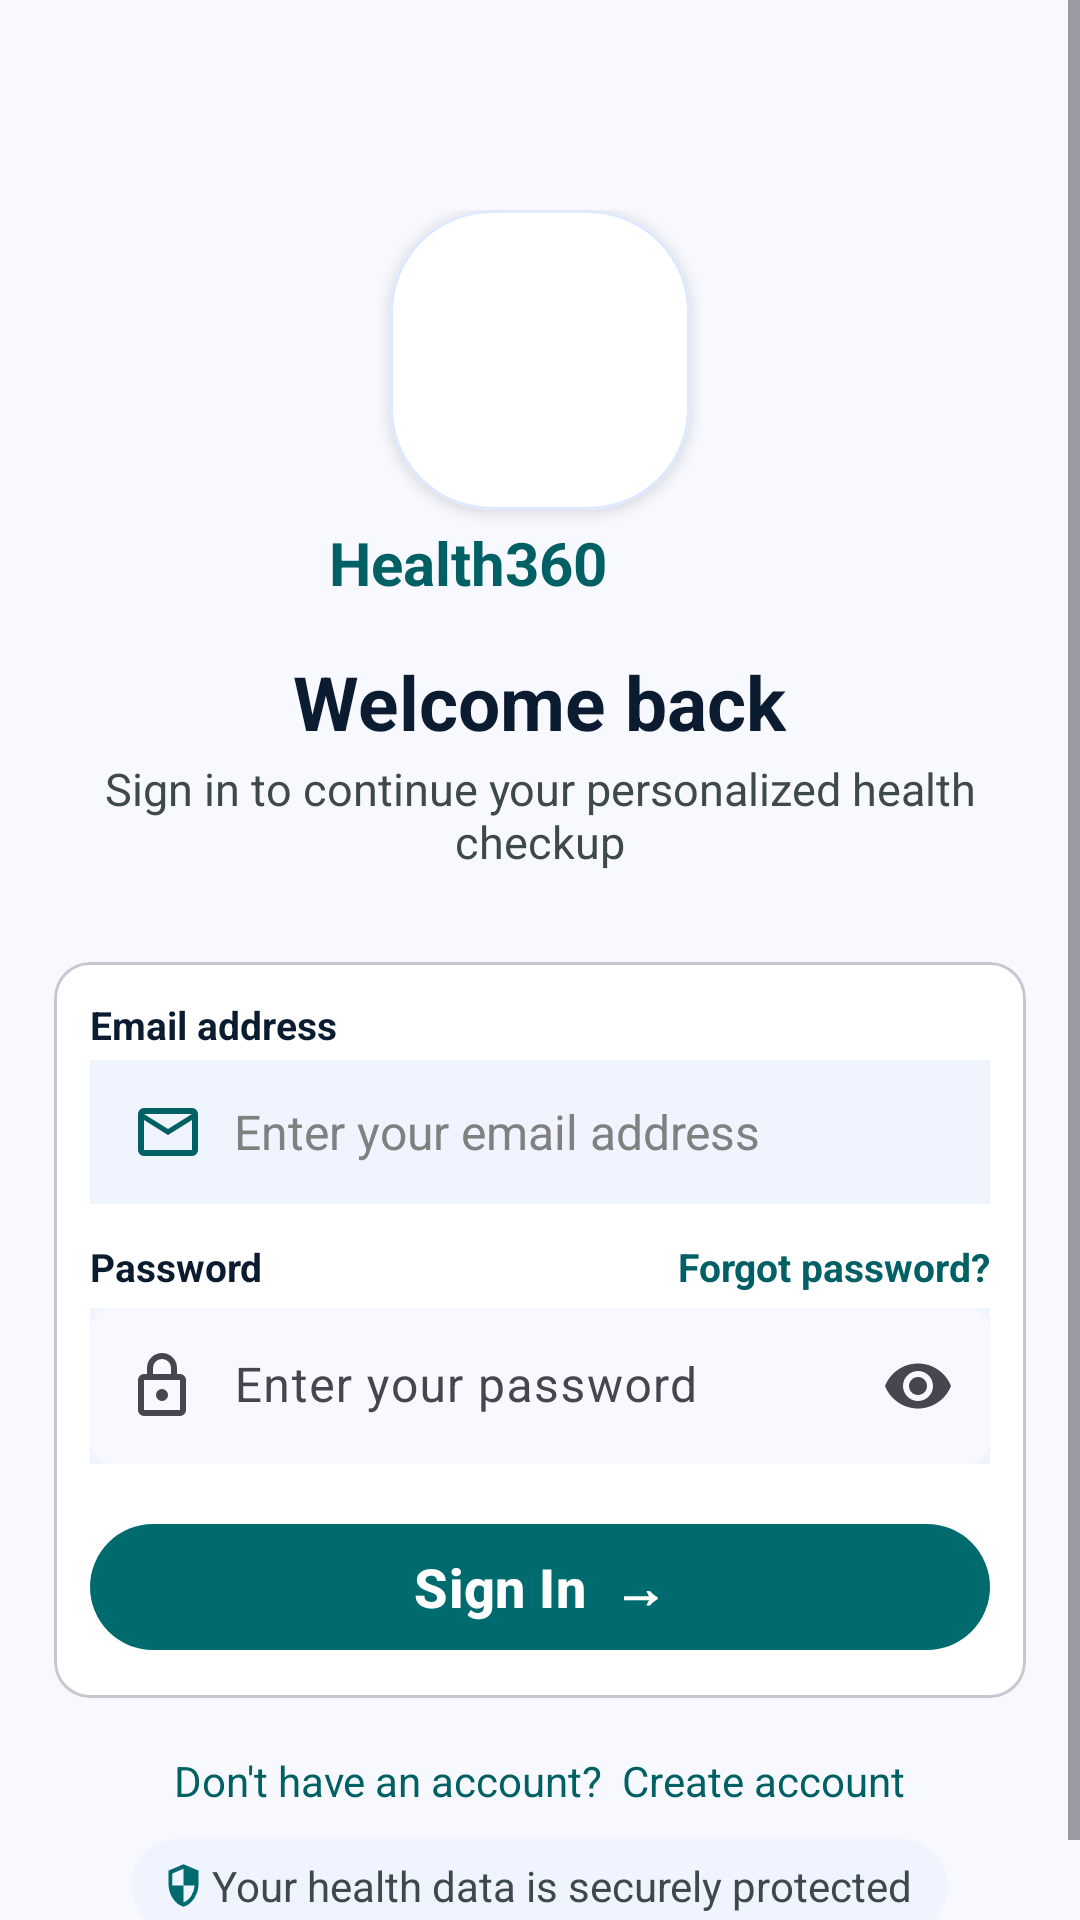

Icons on this 1080px x 1920px Android screen, each with the point to tap as (x,y):
security: (183,1885)
